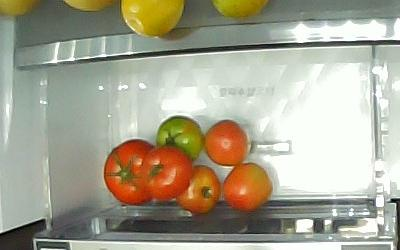tomato: (102, 137, 156, 205), (139, 143, 192, 201), (221, 161, 272, 212), (174, 163, 221, 213), (155, 114, 203, 162), (202, 118, 248, 166)
